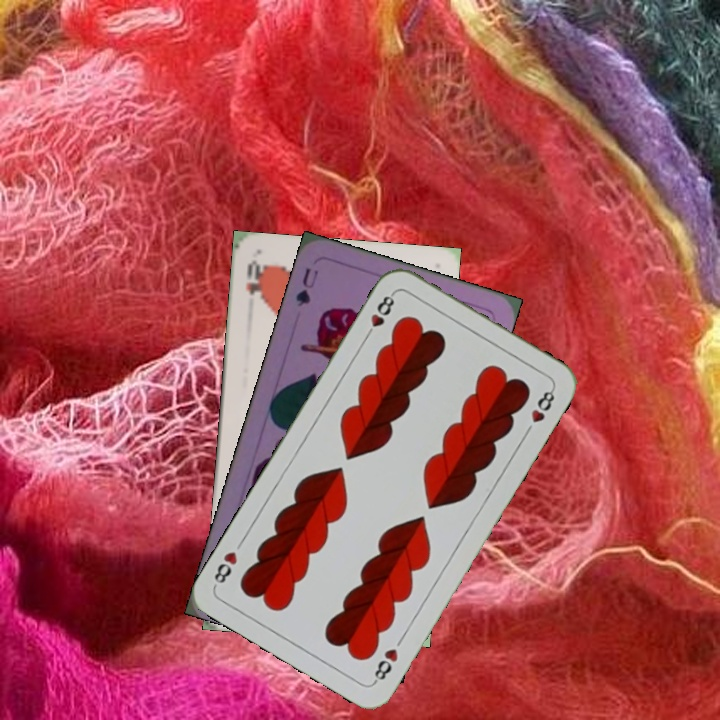GU: (291, 263, 321, 310)
H8: (361, 288, 398, 342), (370, 644, 401, 686)
HO: (241, 257, 264, 302)
